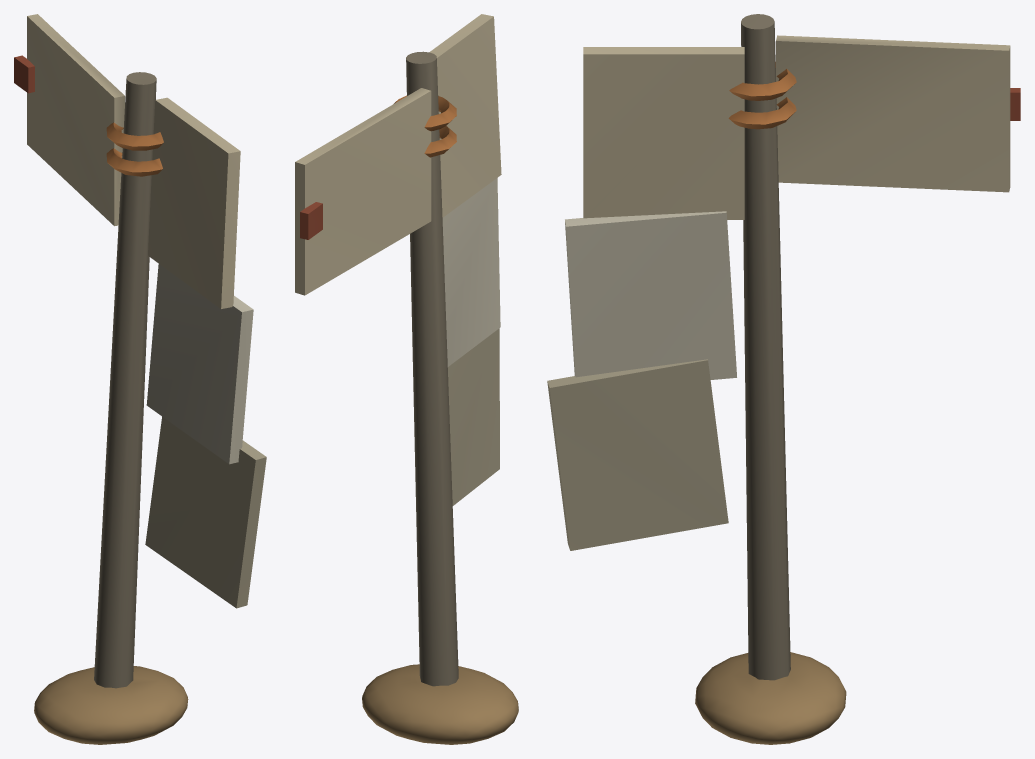
File: keeper_bunting_a_lod1.glb
3 renders of one model, left to right at view 1: azimuth 30°, elevation 25°; view 2: azimuth 150°, elevation 25°; view 3: azimuth 270°, elevation 25°, orthographic. The views are drawn at different scales.
Visible parts, largest first — view 1: Surface.001; view 2: Surface.001; view 3: Surface.001.
Part boxes in pixels (x1,y1,x2,y2): Surface.001: [14, 14, 266, 744]; Surface.001: [295, 14, 518, 744]; Surface.001: [547, 14, 1020, 744].
Size of the model in its own units: 0.6776 by 3.06 by 1.82.
